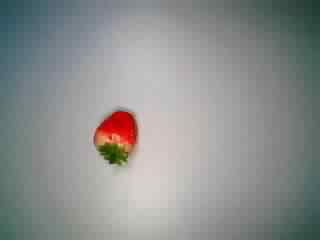strawberry: (82, 104, 150, 168)
